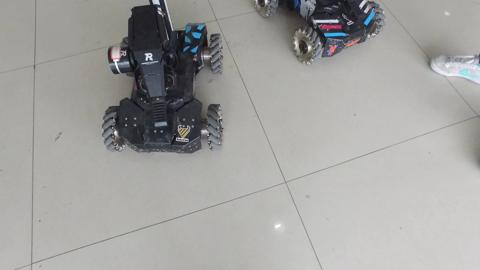chariot: (96, 1, 229, 159), (258, 1, 388, 70)
